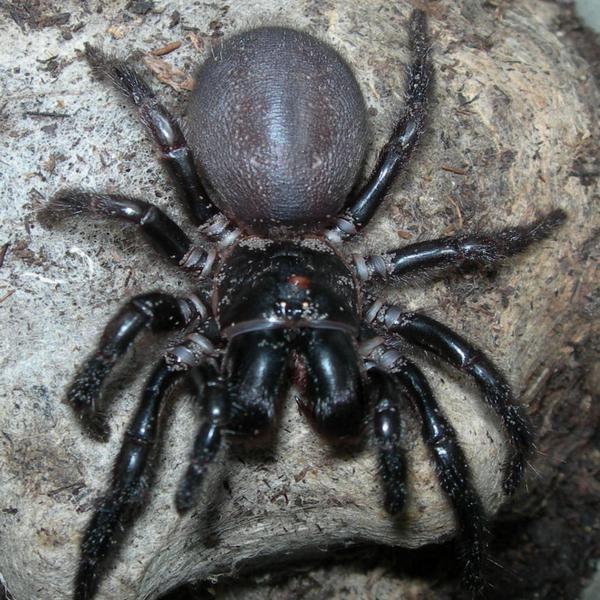Funnel Web Spider: (70, 21, 538, 576)
